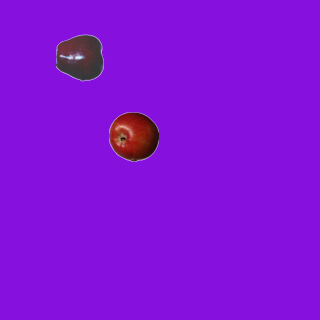Apple Braeburn: (108, 111, 158, 161)
Apple Red Delicious: (55, 32, 105, 82)
